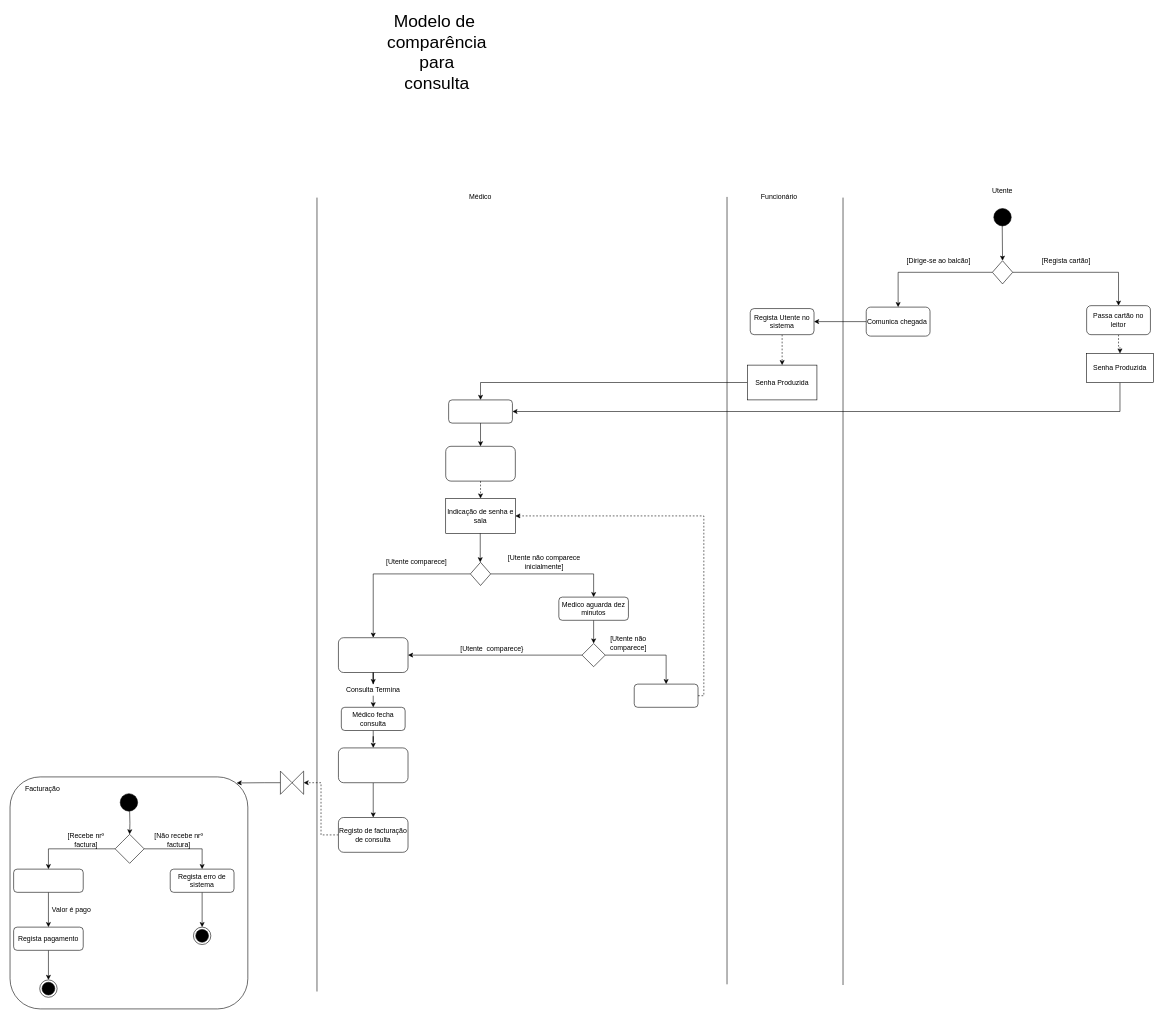
Some shapes in this 1164 by 1019 pixel diagram are drawn without their labels. Each missing label, with the centre of its shape:
A aguardar pagamento: pixel 48 880
Chama Utente: pixel 480 411
Consulta decorre: pixel 373 655
Proximo utente é chamado: pixel 666 695
Registo de inicio de consulta: pixel 480 463
Registo hora fim consulta: pixel 373 765
